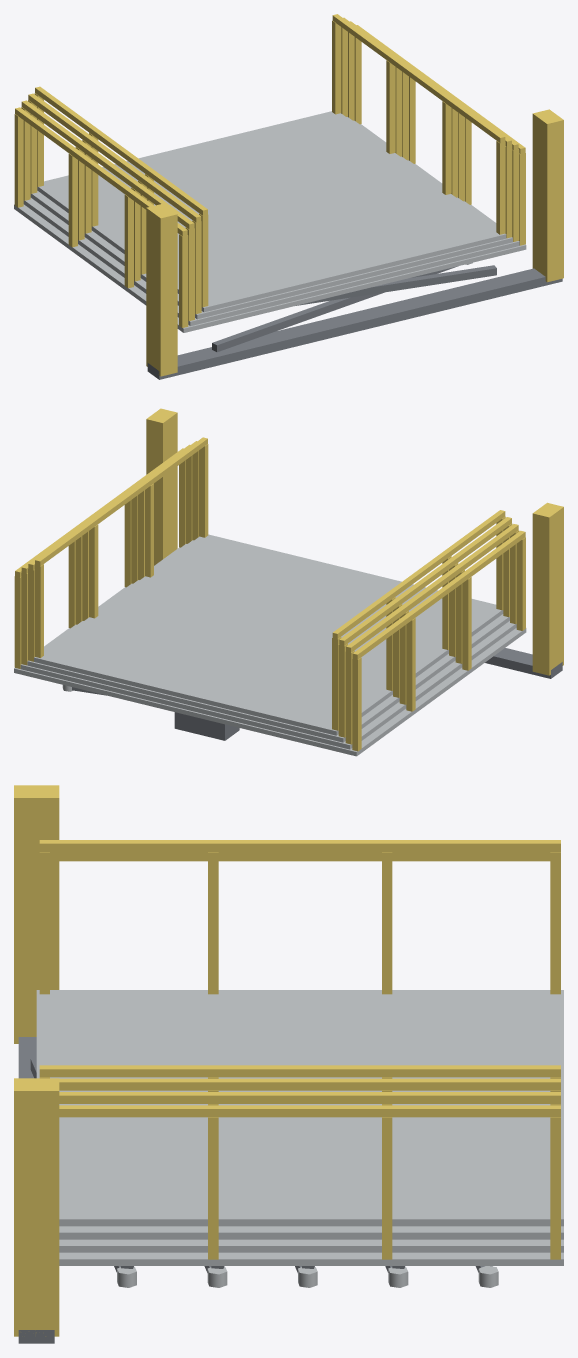
Rendered from scissor_lattice.glb.
3 renders of one model, top to bottom at view 1: azimuth 30°, elevation 25°; view 2: azimuth 150°, elevation 25°; view 3: azimuth 270°, elevation 25°, orthographic. The views are drawn at different scales.
Visible parts, largest first — view 1: plate_0, bridge, plate_3, plate_2, plate_1, arm_4_1, arm_4_0; view 2: plate_0, plate_3, plate_2, bridge, plate_1; view 3: plate_0, bridge, plate_3, plate_1, plate_2.
Boxes of the visible parts, x1,y1,x2,y2 form: plate_0: (34, 14, 506, 312); bridge: (146, 109, 563, 379); plate_3: (14, 25, 526, 332); plate_2: (21, 21, 519, 326); plate_1: (28, 17, 512, 319); arm_4_1: (212, 262, 472, 352); arm_4_0: (296, 265, 496, 305); plate_0: (34, 437, 505, 735); plate_3: (14, 448, 526, 756); plate_2: (20, 444, 519, 749); bridge: (146, 408, 563, 740); plate_1: (27, 441, 512, 742); plate_0: (36, 840, 563, 1226); bridge: (14, 785, 59, 1343); plate_3: (50, 858, 563, 1265); plate_1: (50, 852, 563, 1239); plate_2: (50, 855, 563, 1252).
Size of the model in its own units: 4.8 by 1.85 by 3.65.
